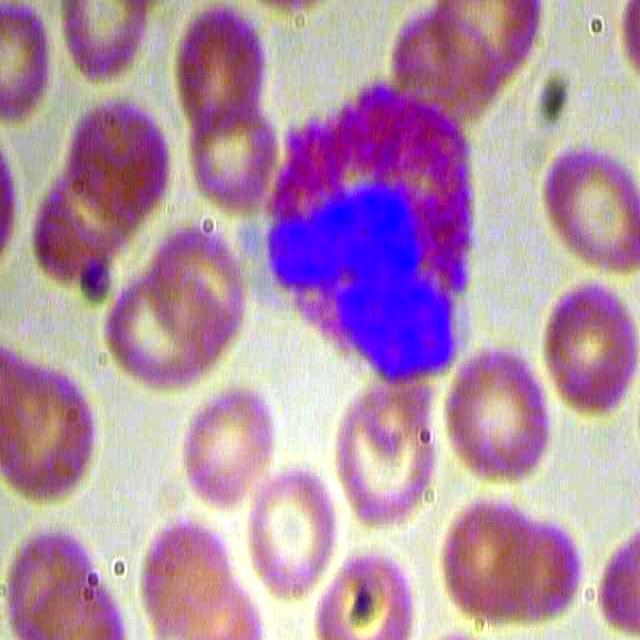RBC: (332, 372, 443, 536), (432, 343, 551, 481), (521, 271, 640, 409), (55, 88, 173, 224), (140, 218, 258, 354), (162, 1, 280, 136), (1, 360, 117, 496), (535, 134, 640, 274), (180, 374, 273, 514), (246, 458, 339, 598)
WBC: (251, 73, 482, 384)
